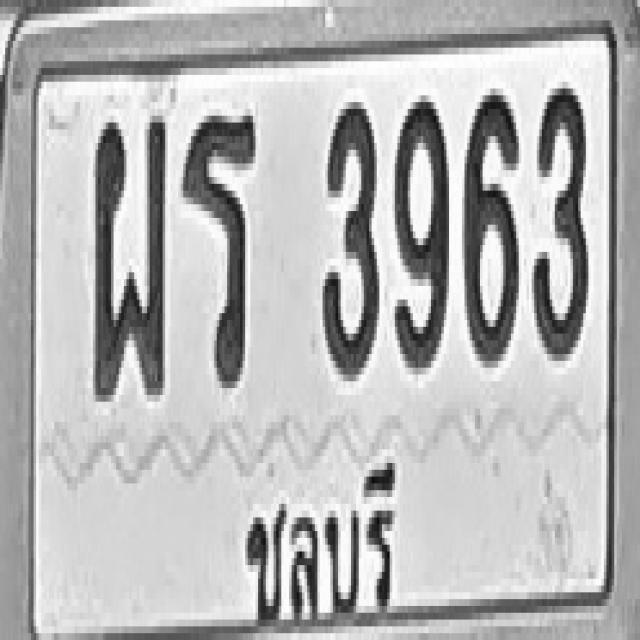3: (321, 96, 378, 374), (532, 79, 588, 358)
37PhorPhueng: (93, 109, 165, 395)
44RorRuea: (180, 106, 256, 384)
6: (462, 85, 519, 364)
9: (393, 95, 448, 368)
Chonburi: (234, 442, 398, 635)
